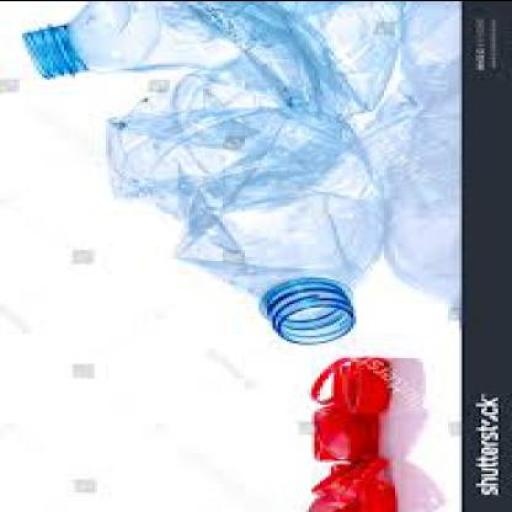plastic: (104, 84, 386, 346), (22, 3, 404, 123), (309, 357, 393, 413), (306, 465, 399, 511), (312, 405, 381, 461), (308, 462, 387, 508)
